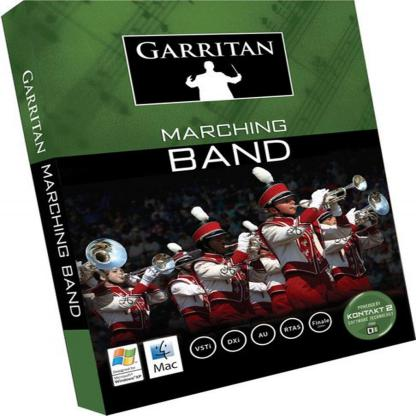face: (275, 195, 298, 215), (208, 235, 228, 254), (104, 268, 125, 284), (322, 215, 340, 230), (179, 258, 196, 271), (256, 240, 272, 253)
